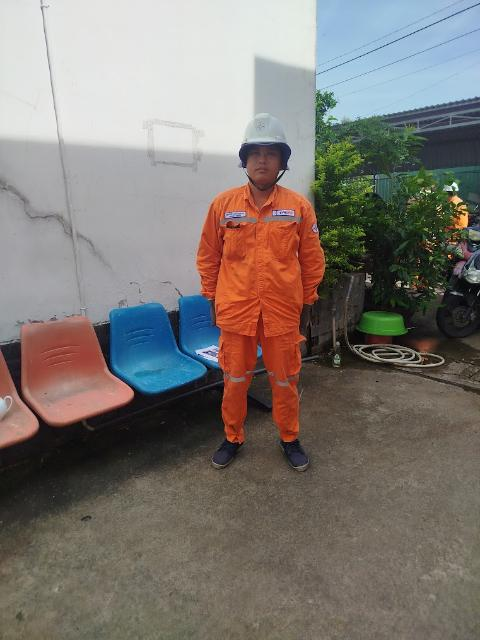gloves: (292, 287, 323, 339), (205, 293, 232, 334)
helmet: (228, 101, 300, 168)
shoes: (262, 416, 320, 481), (206, 424, 250, 470)
